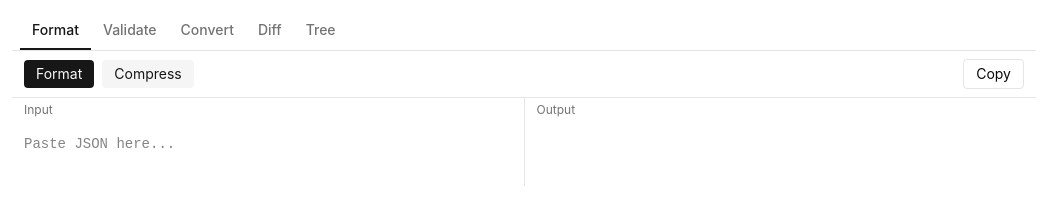
JsonFormatterPanel › switches to Convert view on tab click
Click the button with test id "tab-convert".
click(207, 31)  # box [169,12,246,50]
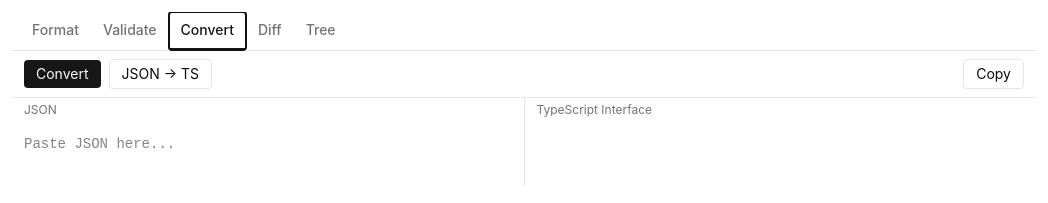
expect the element with test id "convert-view" is shown: met
